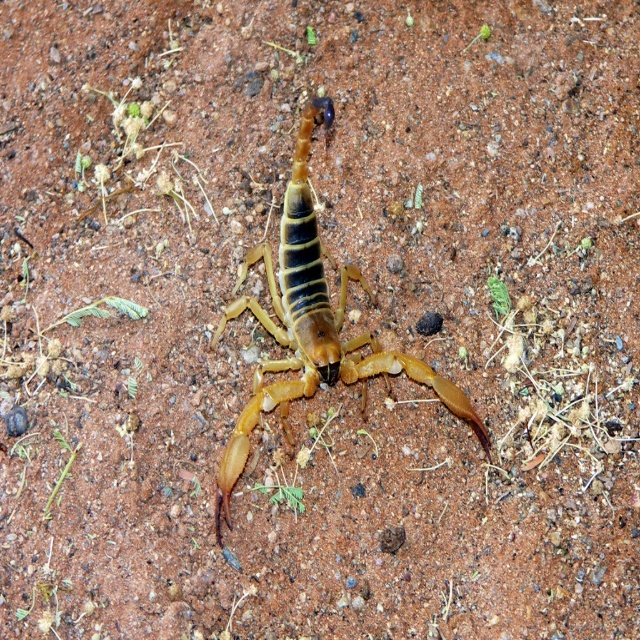Scorpion: (207, 97, 497, 573)
